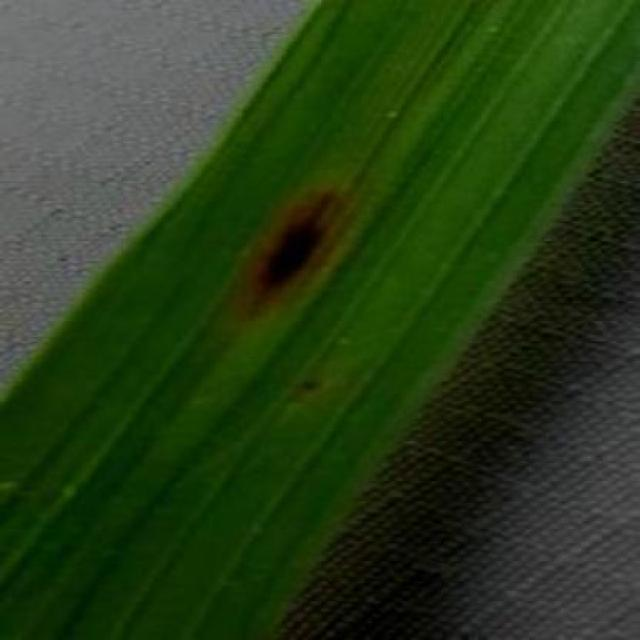Leaf_Blast: (201, 160, 373, 334), (272, 363, 337, 399), (363, 92, 419, 132), (384, 0, 427, 28)
